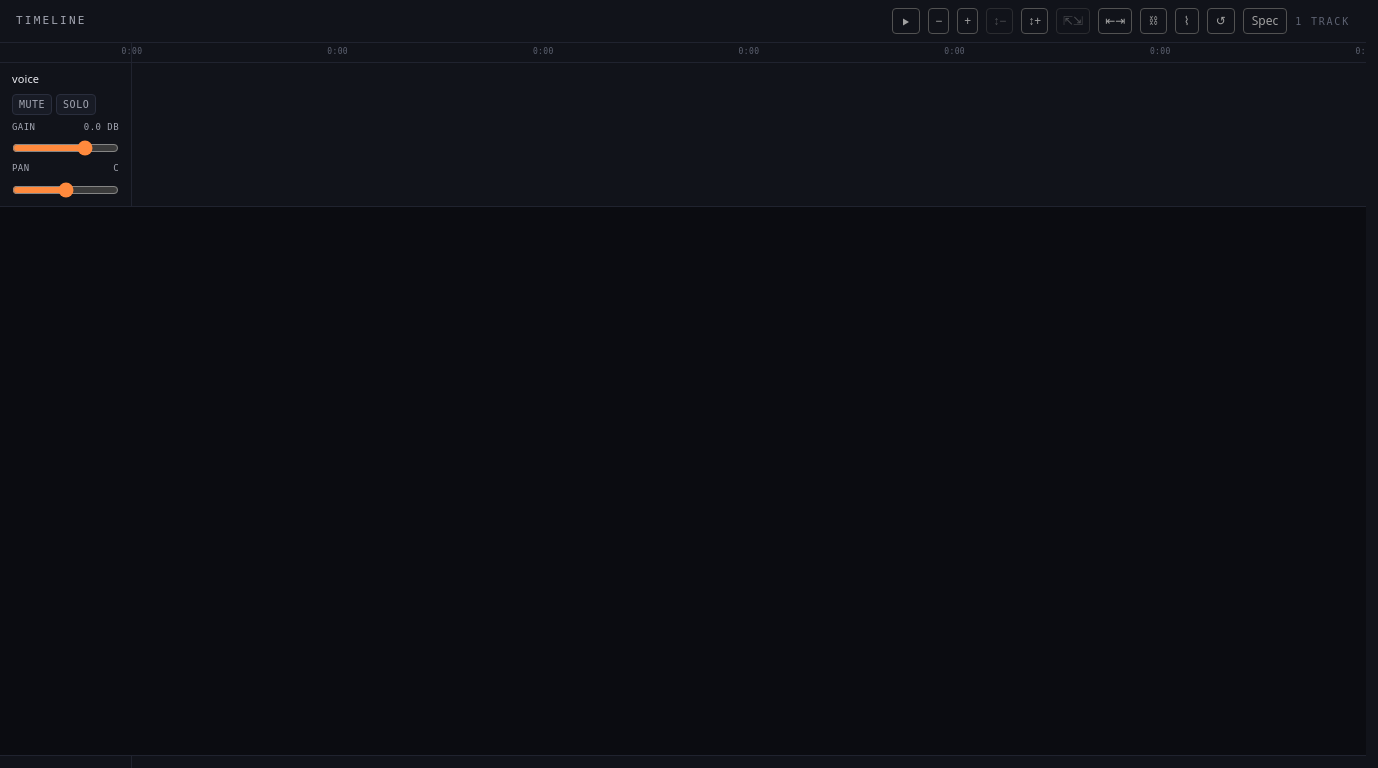
Test case: Play with no mix › a mix that cannot be loaded drops the play and leaves the button usable
This screenshot has width=1378, height=768.
Click the button with test id "play-pause-button": (906, 21) 892,8 -> 920,34
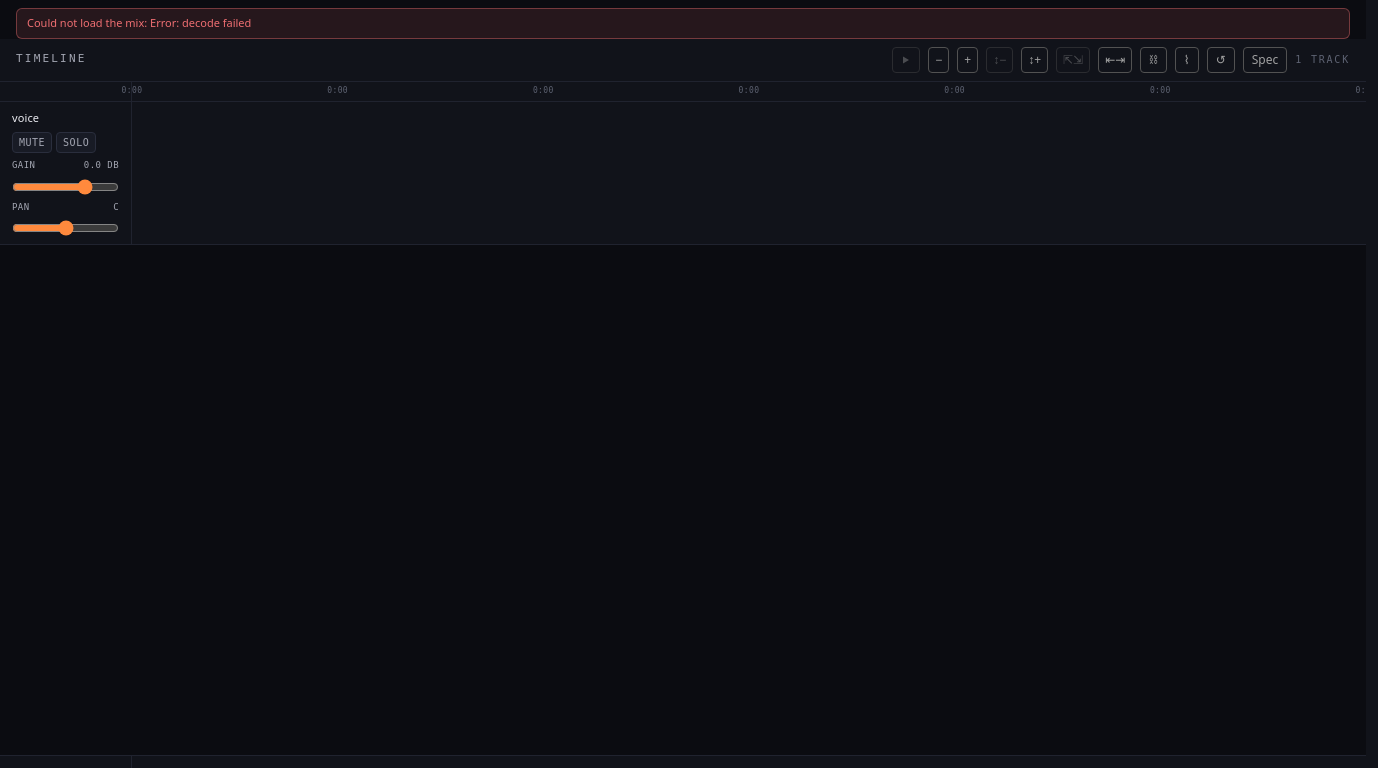
Result: the message with test id "timeline-mix-error" shows "decode failed" at 27,15 -> 251,30
